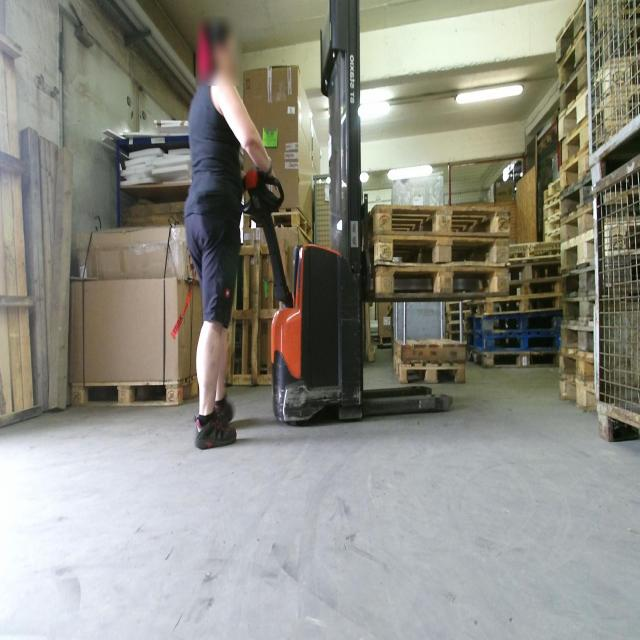pallet: (224, 241, 289, 393), (362, 196, 508, 240), (363, 231, 515, 267), (69, 372, 195, 412), (363, 267, 512, 291), (237, 204, 314, 242), (392, 349, 467, 385), (467, 278, 563, 301), (466, 311, 558, 333), (553, 1, 583, 62), (556, 86, 588, 139), (466, 333, 557, 351), (556, 31, 585, 85), (471, 351, 557, 369), (559, 143, 588, 194), (558, 59, 586, 110), (464, 296, 558, 311), (559, 230, 594, 270), (559, 376, 595, 414), (558, 203, 593, 241), (559, 265, 597, 299), (558, 347, 594, 380), (560, 118, 587, 161), (560, 176, 587, 217), (557, 320, 594, 343), (559, 299, 595, 318), (543, 214, 560, 237), (447, 329, 468, 339), (446, 311, 467, 321), (447, 320, 468, 329)
pallet_truck: (241, 1, 463, 437)
stillage: (588, 144, 640, 441), (586, 1, 639, 192), (312, 169, 336, 250)
